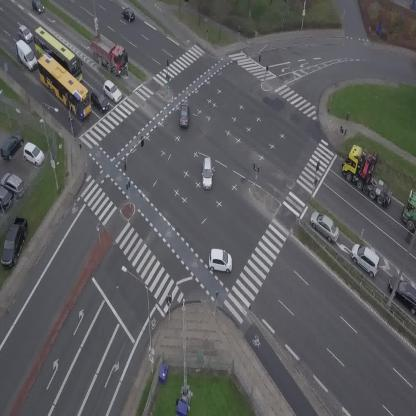bicycle: (68, 117, 75, 133)
bus: (28, 50, 100, 121), (24, 24, 92, 87)
car: (345, 239, 387, 279), (304, 207, 345, 244), (86, 87, 114, 114), (99, 79, 125, 104), (209, 249, 232, 273), (15, 23, 35, 44), (119, 6, 138, 24), (202, 157, 212, 190), (179, 103, 189, 127), (32, 0, 44, 14)
lorry: (334, 138, 398, 217), (82, 30, 135, 78), (10, 37, 40, 74), (401, 190, 416, 231)
